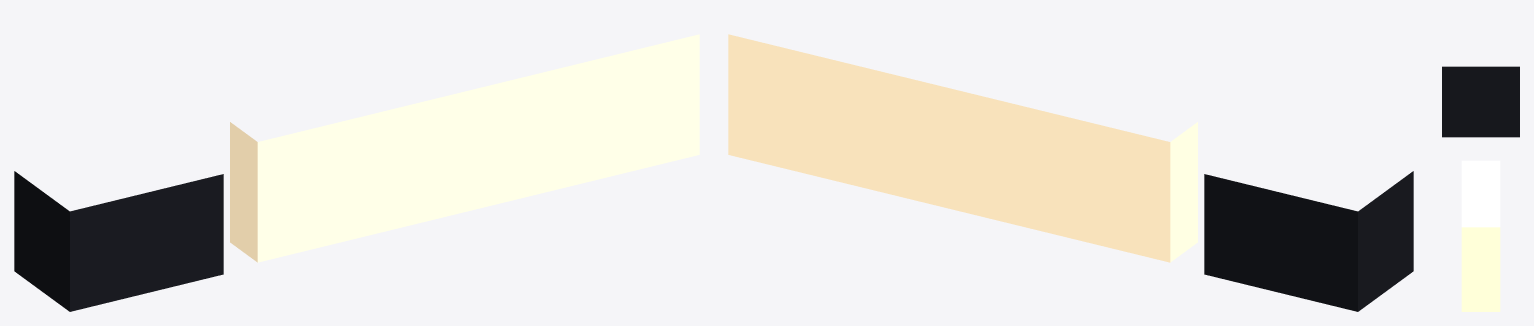
File: marci.glb
The picture shows the model from 3 angles, left to right: view 1: azimuth 30°, elevation 25°; view 2: azimuth 150°, elevation 25°; view 3: azimuth 270°, elevation 25°; orthographic projection. The views are drawn at different scales.
Visible parts, largest first — view 1: marci-edge, marci-grip; view 2: marci-edge, marci-grip; view 3: marci-edge, marci-grip.
Part boxes in pixels (<box>): marci-edge: <box>230,34,699,262</box>; marci-grip: <box>14,171,223,311</box>; marci-edge: <box>728,34,1197,262</box>; marci-grip: <box>1204,171,1413,311</box>; marci-edge: <box>1461,160,1500,311</box>; marci-grip: <box>1442,66,1519,137</box>.
Bounding box in the file's own units: 0.67 × 0.12 × 0.1.
